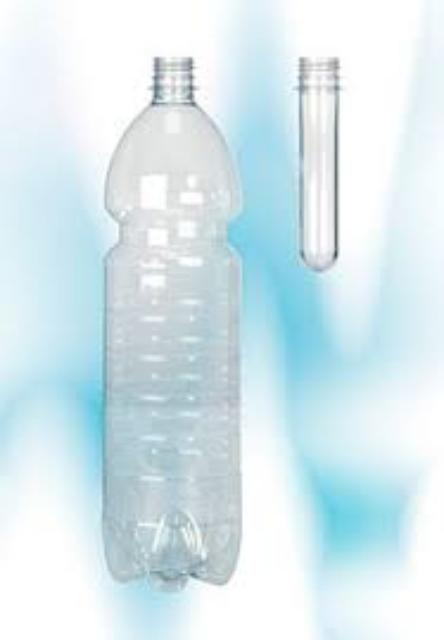plastic: (100, 55, 238, 583)
